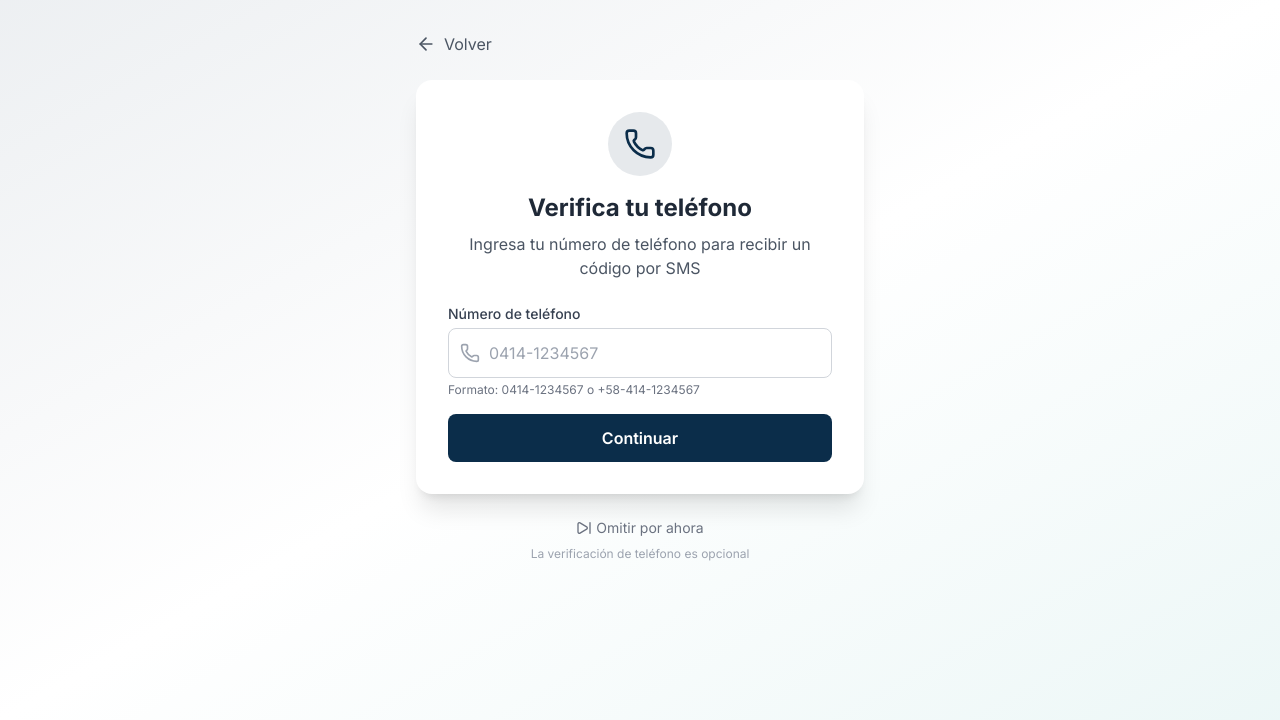
it: Verificación de Identidad - E2E › Página de Verificación de Teléfono › debe validar formato de teléfono venezolano
This screenshot has width=1280, height=720.
Type "1234567" into the field with placeholder "0414-1234567".
click(640, 353); type("1234567")  # box [448, 328, 832, 378]
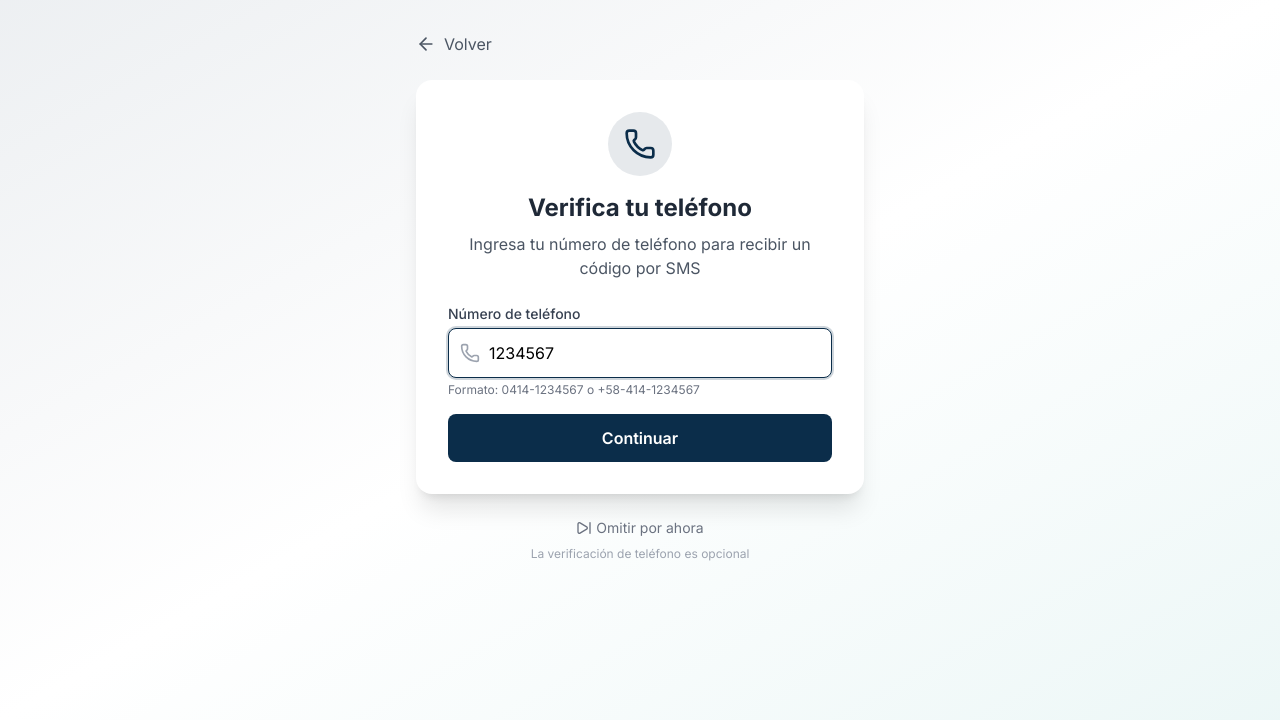
Click the button "Continuar".
click(640, 438)  # box [448, 414, 832, 462]
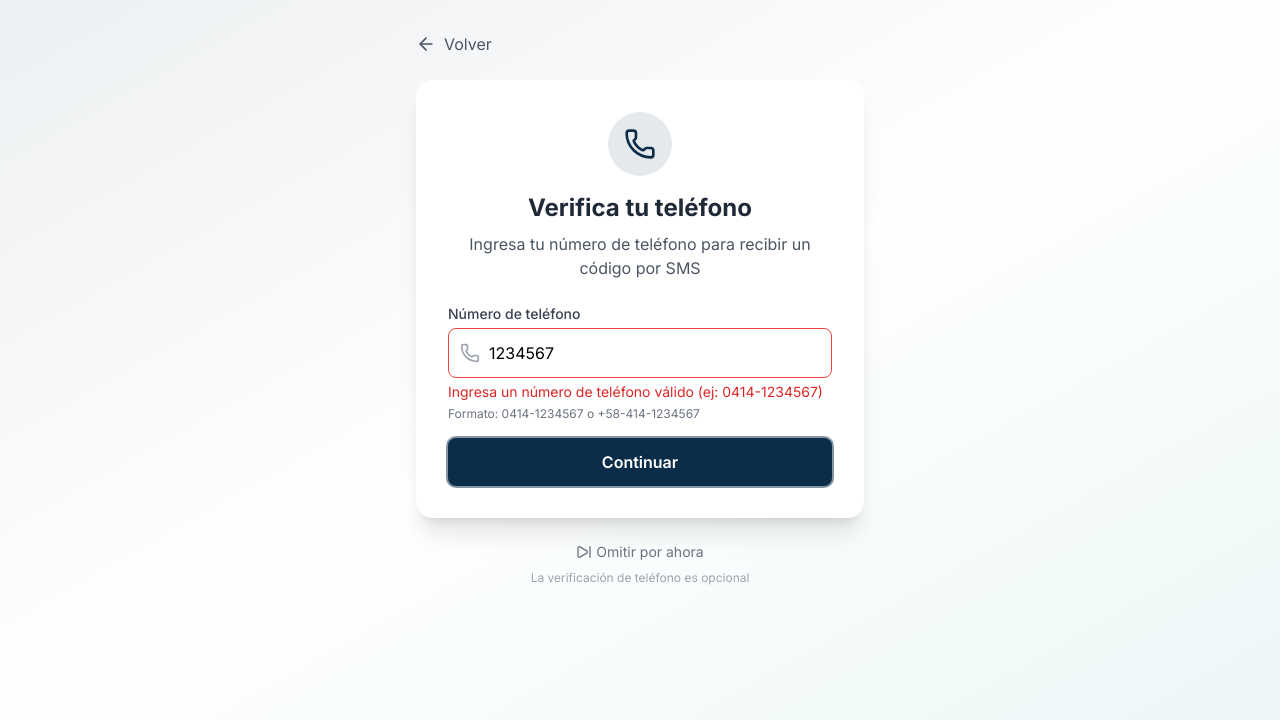
Expected: the text "número de teléfono válido" is shown, [448, 383, 823, 400]
